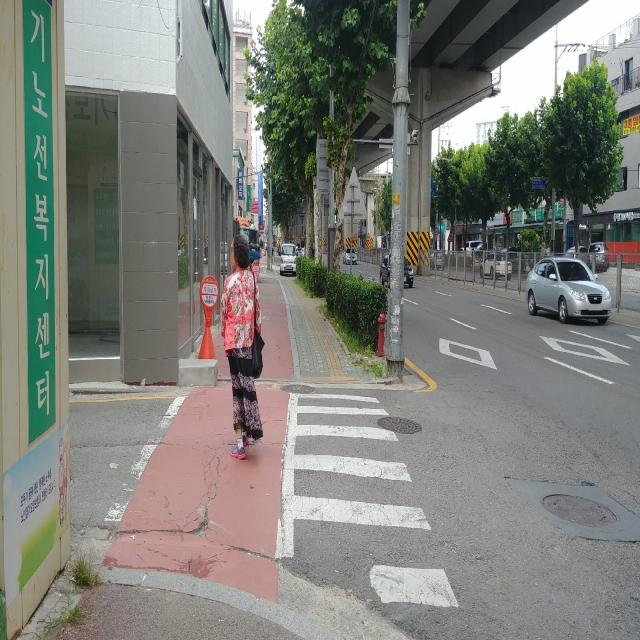횡단보도: (294, 393, 459, 609)
